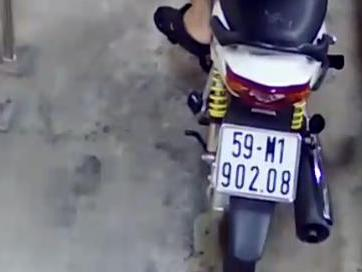num_plate: (212, 122, 301, 203)
